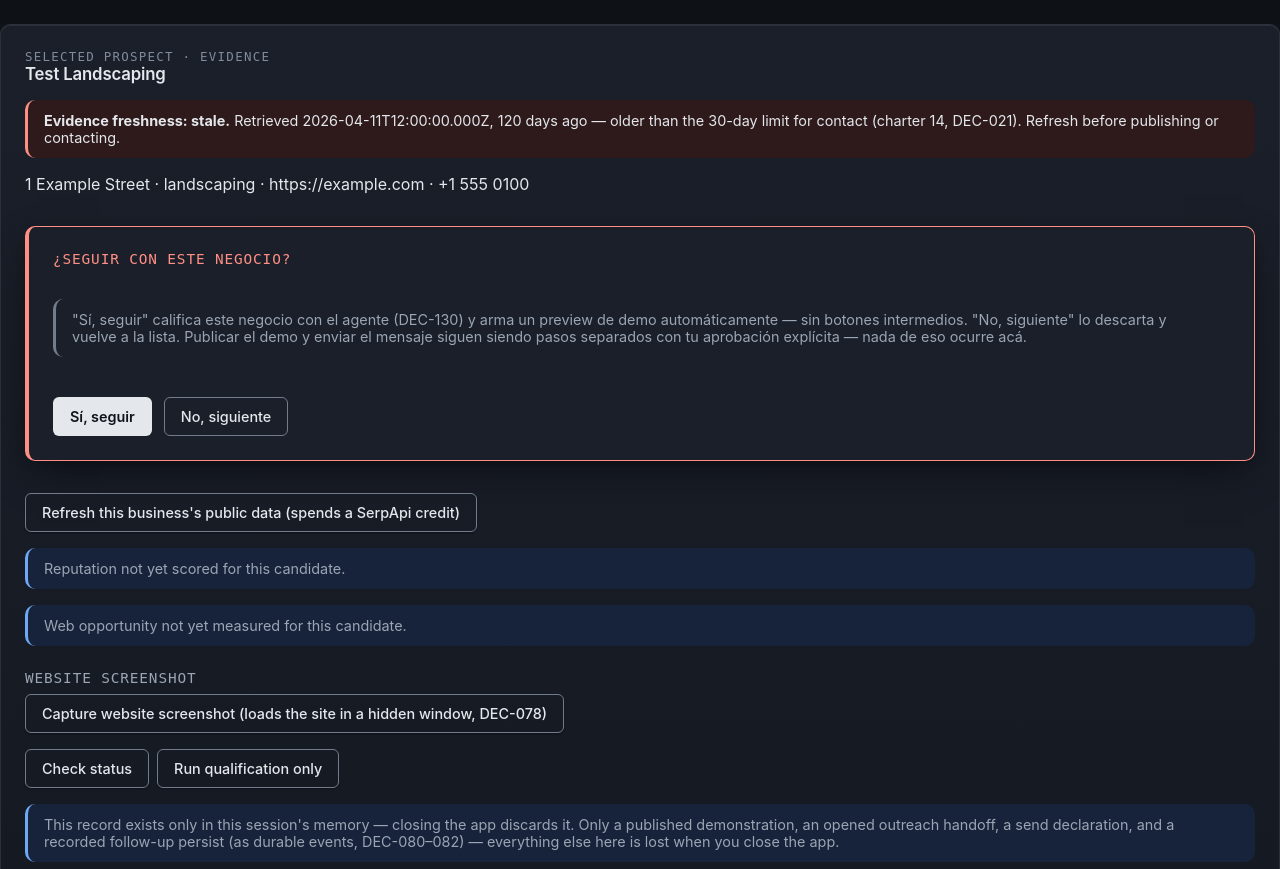
DEC-095 — refreshing stale evidence, and being shown what changed › shows a fallen rating rather than silently replacing it
Click the button "Refresh this business" at (251, 512), box [25,493,477,532]
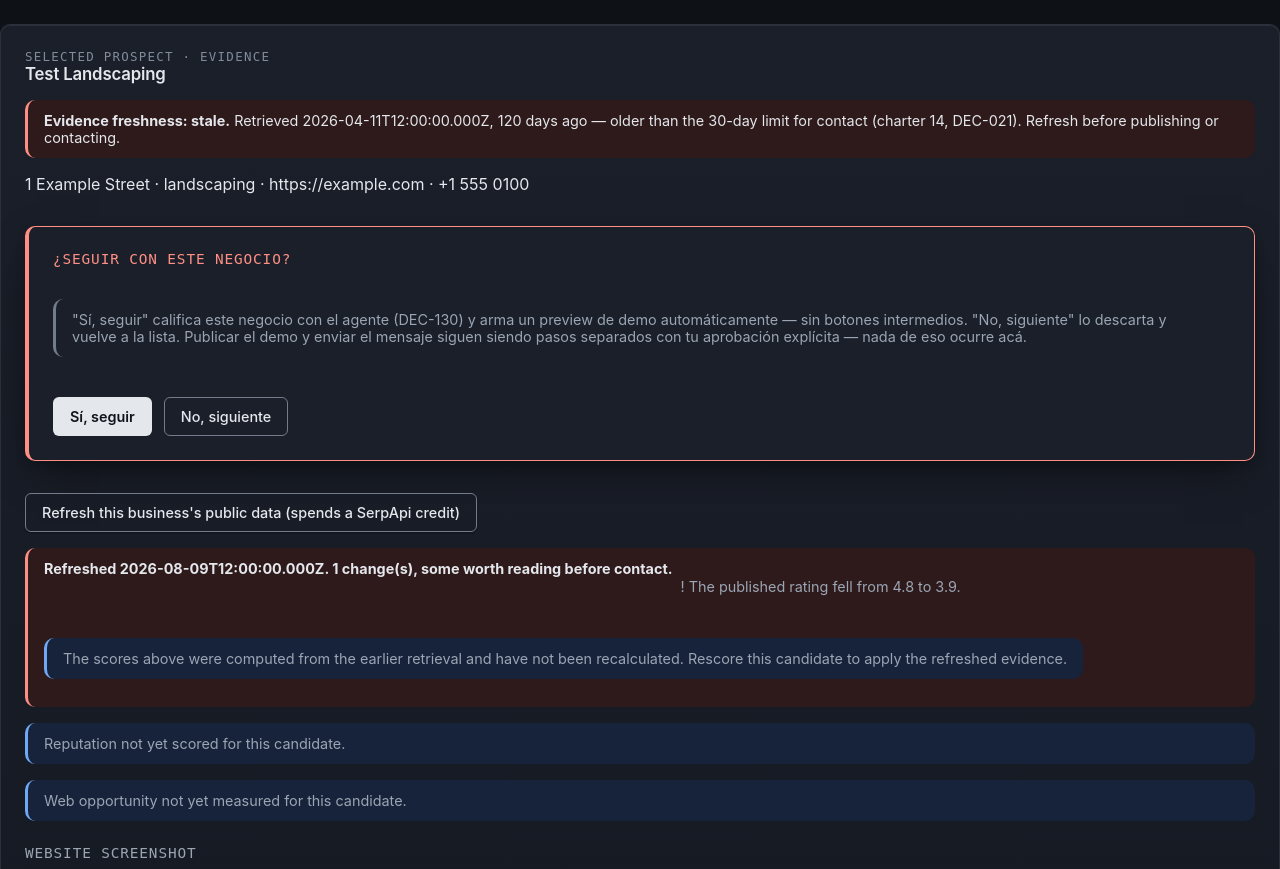
expect the list item "! The published rating fell from 4.8 to 3.9." is shown: met, box [680,574,961,600]
